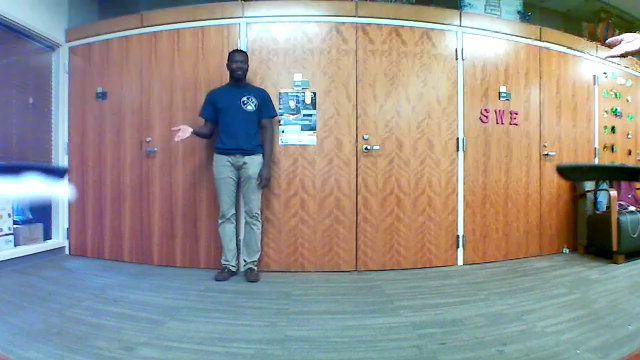land: (594, 29, 640, 60), (167, 123, 198, 145)
